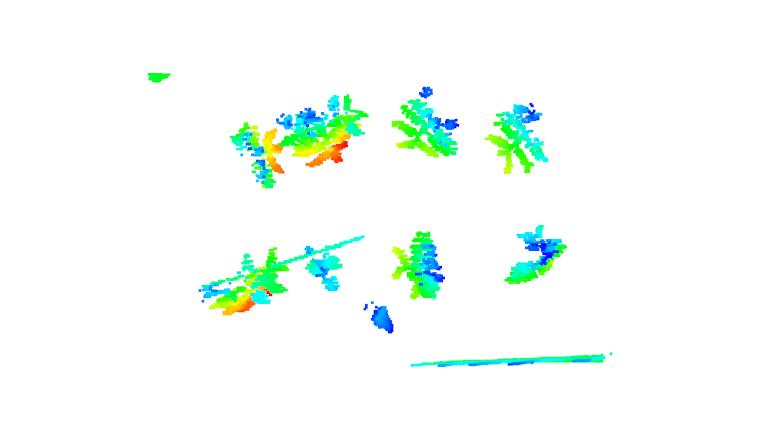chickpea: (273, 93, 368, 165), (203, 246, 288, 314), (391, 86, 462, 160), (487, 102, 552, 173), (502, 223, 568, 285), (389, 232, 447, 300), (229, 118, 286, 187), (303, 243, 344, 293)
